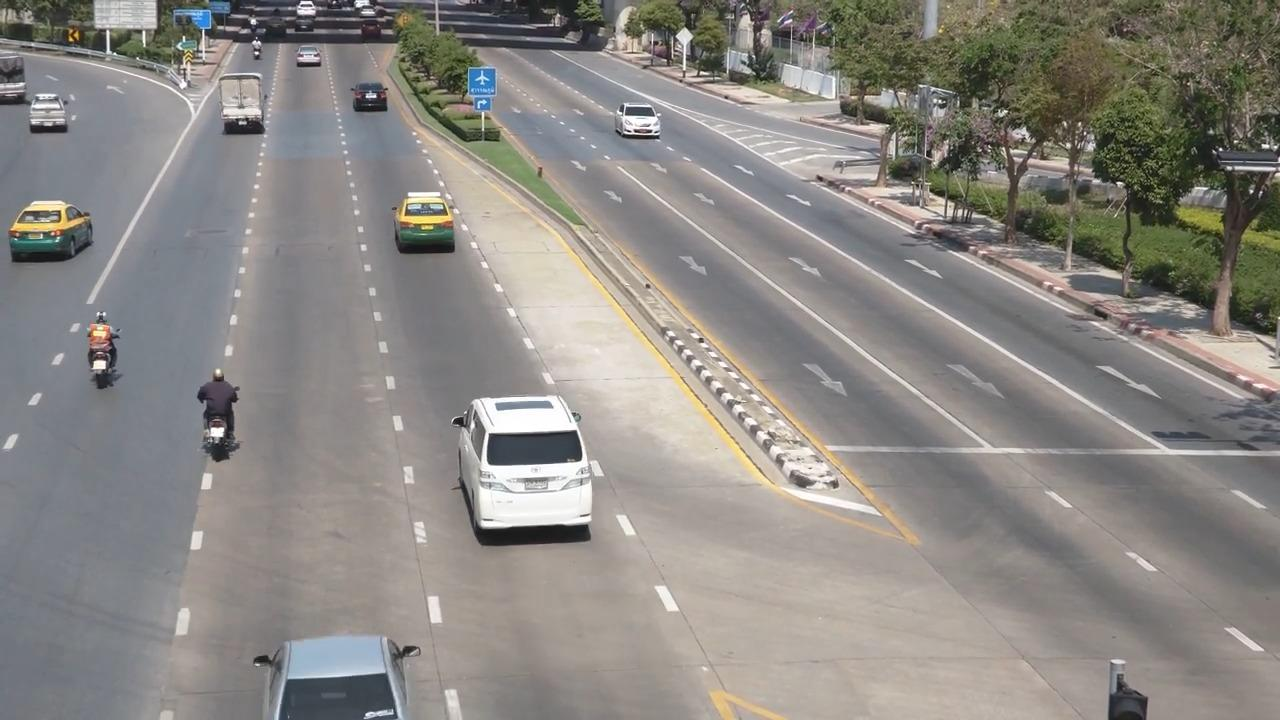CAR: (434, 375, 624, 557), (237, 612, 440, 720), (2, 191, 97, 264), (385, 188, 467, 265), (209, 69, 273, 143), (604, 95, 674, 154), (21, 88, 77, 155), (0, 62, 49, 132), (345, 77, 396, 122), (289, 40, 330, 79), (351, 19, 388, 56)
MOTOR: (184, 363, 255, 472), (69, 303, 134, 407), (239, 36, 266, 81)
